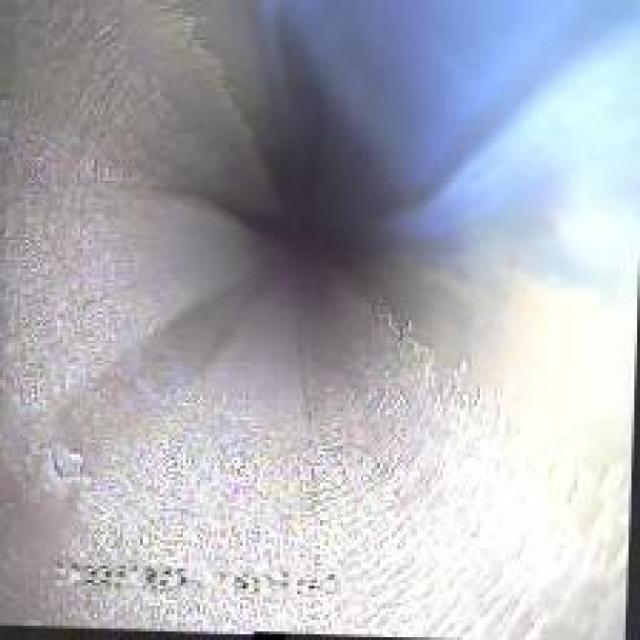ferrule: (26, 428, 88, 488)
